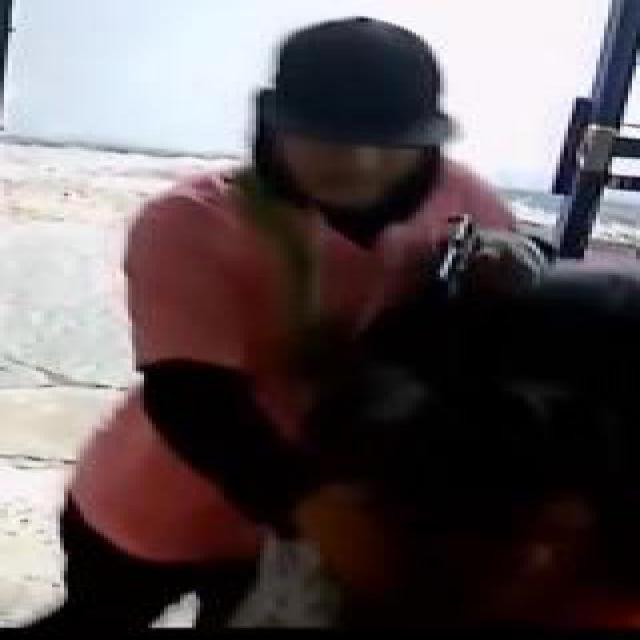weapon: (426, 212, 486, 306)
